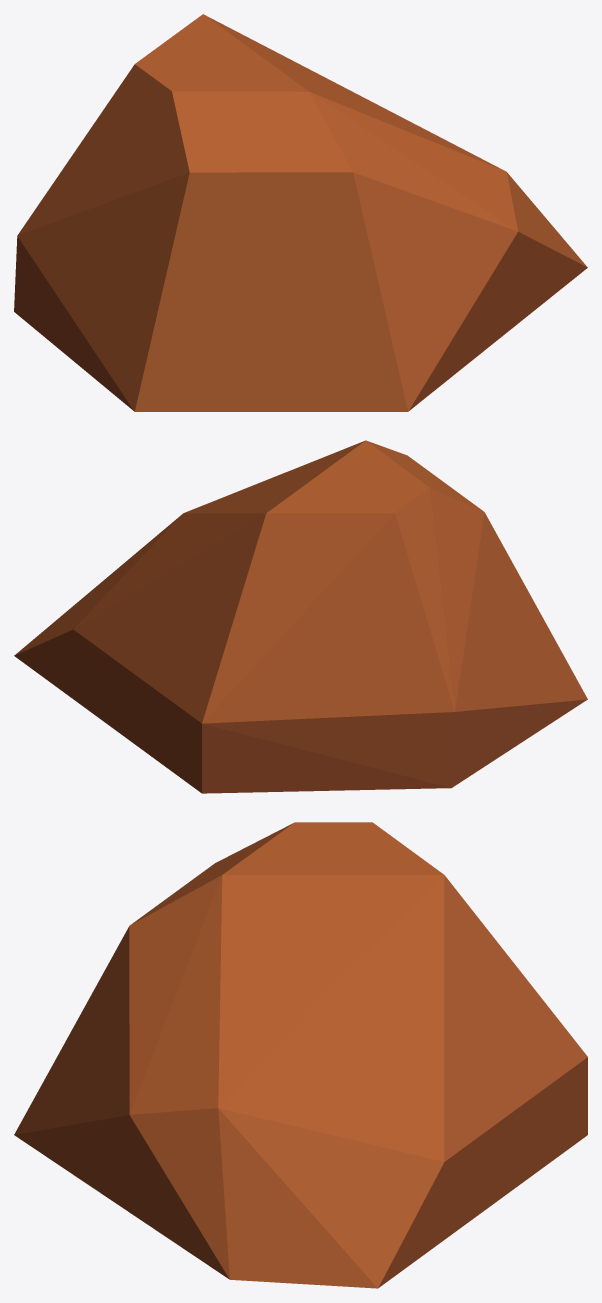
The model's file is kk_rock_a.obj.
3 renders of one model, top to bottom at view 1: azimuth 30°, elevation 25°; view 2: azimuth 150°, elevation 25°; view 3: azimuth 270°, elevation 25°, orthographic. The views are drawn at different scales.
Bounding box in the file's own units: 6.4 × 3 × 6.
